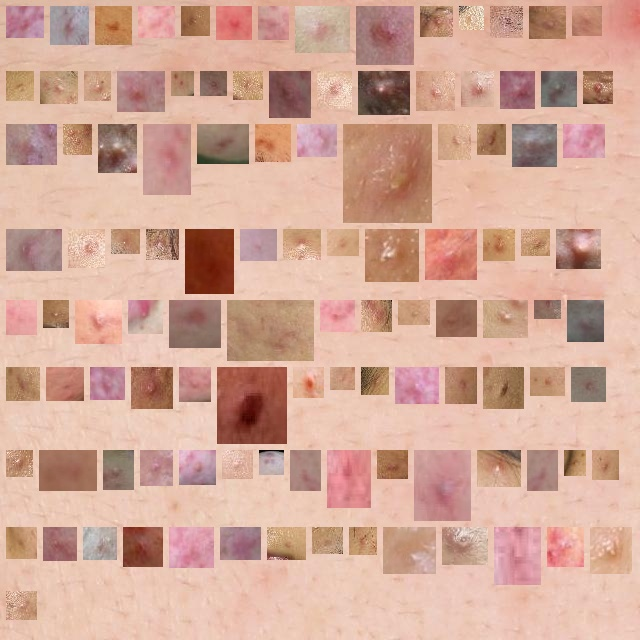papule: (351, 132, 424, 215), (225, 375, 279, 436), (235, 308, 306, 353), (422, 458, 463, 513), (364, 14, 406, 57), (151, 132, 183, 187), (193, 237, 226, 286), (373, 237, 411, 274), (502, 535, 533, 577), (433, 237, 469, 272), (303, 14, 342, 45), (335, 458, 363, 500), (177, 308, 213, 340), (391, 535, 428, 566), (47, 458, 89, 483), (14, 237, 54, 263), (366, 79, 402, 107), (14, 132, 49, 157), (83, 308, 114, 336), (205, 132, 241, 156), (277, 79, 303, 110), (598, 535, 624, 566), (125, 79, 157, 104), (520, 132, 549, 159), (106, 132, 129, 165), (177, 535, 206, 560), (564, 237, 593, 261), (139, 375, 165, 401), (450, 535, 480, 557), (491, 375, 516, 401), (491, 308, 520, 330), (403, 375, 431, 396), (485, 458, 513, 479), (131, 535, 155, 559), (424, 79, 447, 103), (575, 308, 596, 334), (58, 14, 81, 37), (104, 458, 126, 482), (305, 132, 336, 149), (444, 308, 469, 329), (555, 535, 576, 559), (103, 14, 124, 37), (76, 237, 97, 260), (571, 132, 597, 150), (263, 132, 283, 154), (228, 535, 253, 552), (325, 79, 344, 101), (508, 79, 527, 101), (549, 79, 569, 99), (187, 458, 208, 477), (54, 375, 76, 393), (275, 535, 298, 552), (298, 458, 313, 483), (535, 458, 550, 483), (48, 79, 70, 96), (579, 375, 598, 394), (224, 14, 244, 32), (537, 14, 558, 31), (14, 14, 36, 30), (136, 308, 155, 326), (469, 79, 486, 99), (446, 132, 463, 152), (148, 458, 165, 478), (146, 14, 167, 30), (248, 237, 269, 253), (453, 375, 469, 396), (291, 237, 313, 252), (14, 375, 32, 393), (51, 535, 69, 553), (98, 375, 117, 392), (91, 535, 109, 552), (328, 308, 347, 324), (187, 375, 203, 394), (14, 308, 29, 327), (498, 14, 515, 30), (266, 14, 281, 32), (491, 237, 507, 253), (428, 14, 445, 29), (154, 237, 171, 252), (538, 375, 557, 388), (369, 308, 384, 324), (14, 535, 29, 551), (591, 79, 605, 96), (301, 375, 316, 390), (580, 14, 594, 28), (71, 132, 84, 147), (485, 132, 498, 147), (230, 458, 245, 471), (385, 458, 400, 471), (14, 599, 29, 612), (189, 14, 202, 28), (241, 79, 255, 92), (335, 237, 351, 248), (14, 79, 26, 93), (320, 535, 335, 546), (92, 79, 103, 93), (600, 458, 611, 472), (406, 308, 422, 317), (369, 375, 381, 387), (357, 535, 369, 547), (529, 237, 542, 248), (14, 458, 25, 469), (51, 308, 61, 320), (119, 237, 132, 246), (208, 79, 219, 88), (267, 458, 276, 467), (467, 14, 476, 22), (179, 79, 186, 88), (338, 375, 347, 382), (572, 458, 578, 468)
